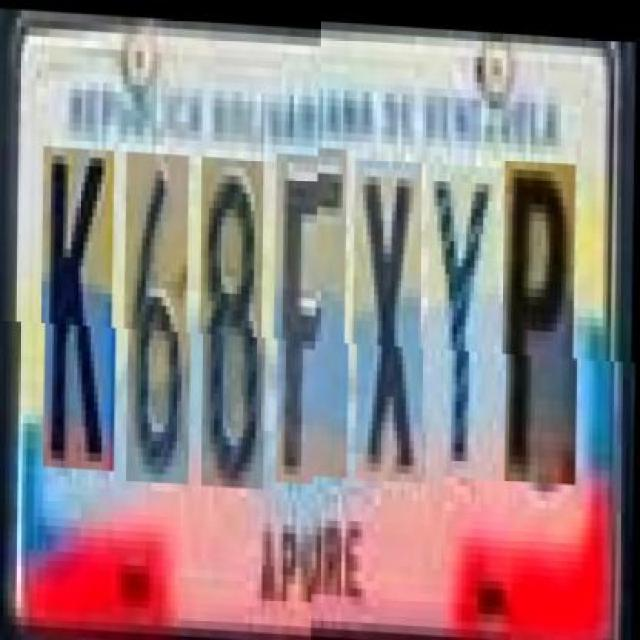6: (128, 150, 194, 482)
8: (202, 154, 268, 486)
f: (278, 149, 352, 482)
k: (44, 145, 119, 470)
p: (506, 161, 580, 485)
x: (356, 162, 427, 486)
y: (431, 166, 502, 482)
